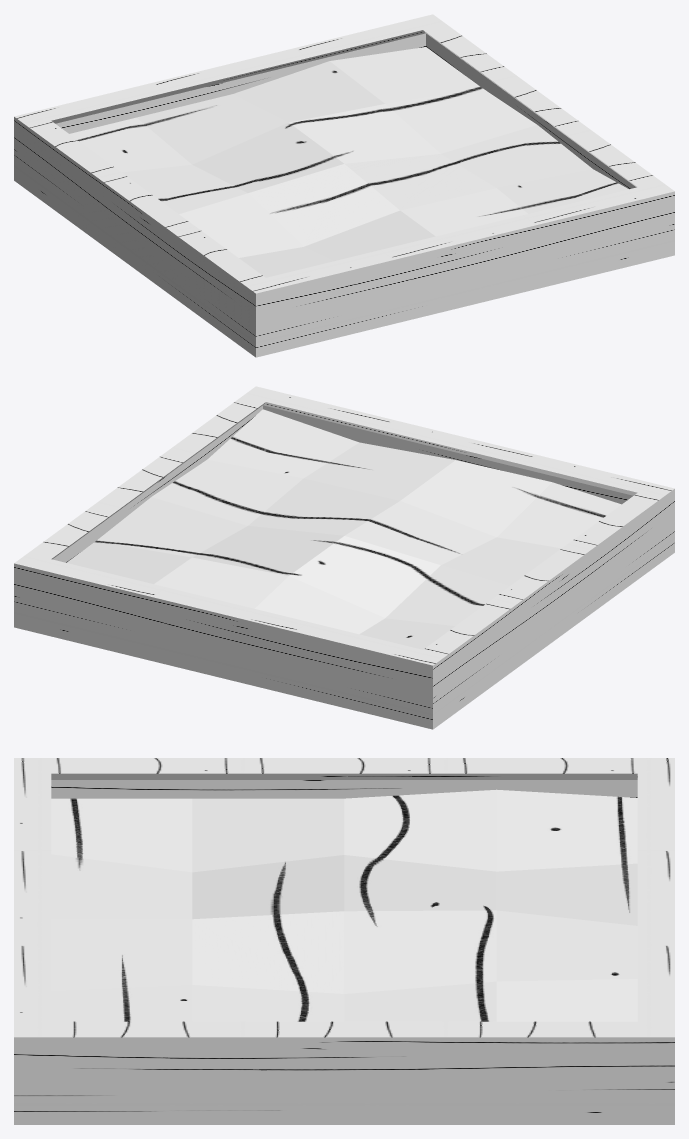
Rendered from Sandbox.fbx.
3 renders of one model, top to bottom at view 1: azimuth 30°, elevation 25°; view 2: azimuth 150°, elevation 25°; view 3: azimuth 270°, elevation 25°, orthographic. The views are drawn at different scales.
Visible parts, largest first — view 1: Cube; view 2: Cube; view 3: Cube.
Part boxes in pixels (x1,y1,x2,y2): Cube: (14, 14, 674, 357); Cube: (14, 386, 674, 729); Cube: (14, 758, 674, 1124).
Size of the model in its own units: 200 by 29.21 by 200.
